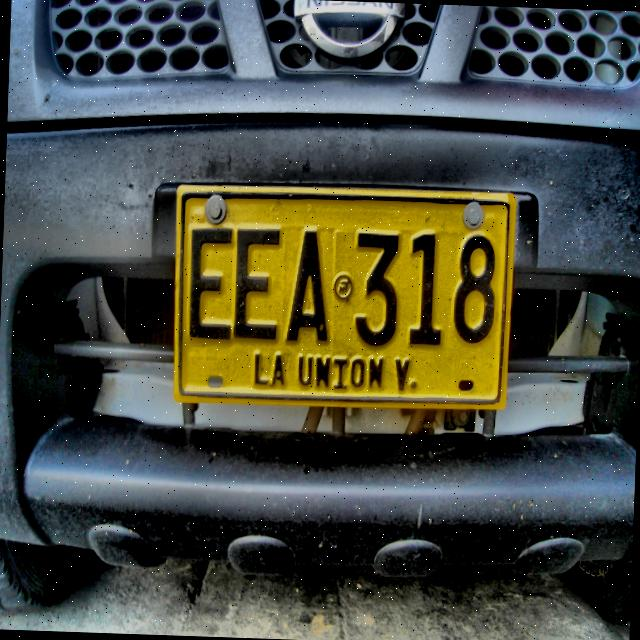1: (403, 227, 448, 352)
3: (350, 226, 406, 351)
8: (447, 229, 502, 348)
A: (283, 220, 335, 350)
E: (184, 224, 236, 348), (230, 223, 282, 347)
